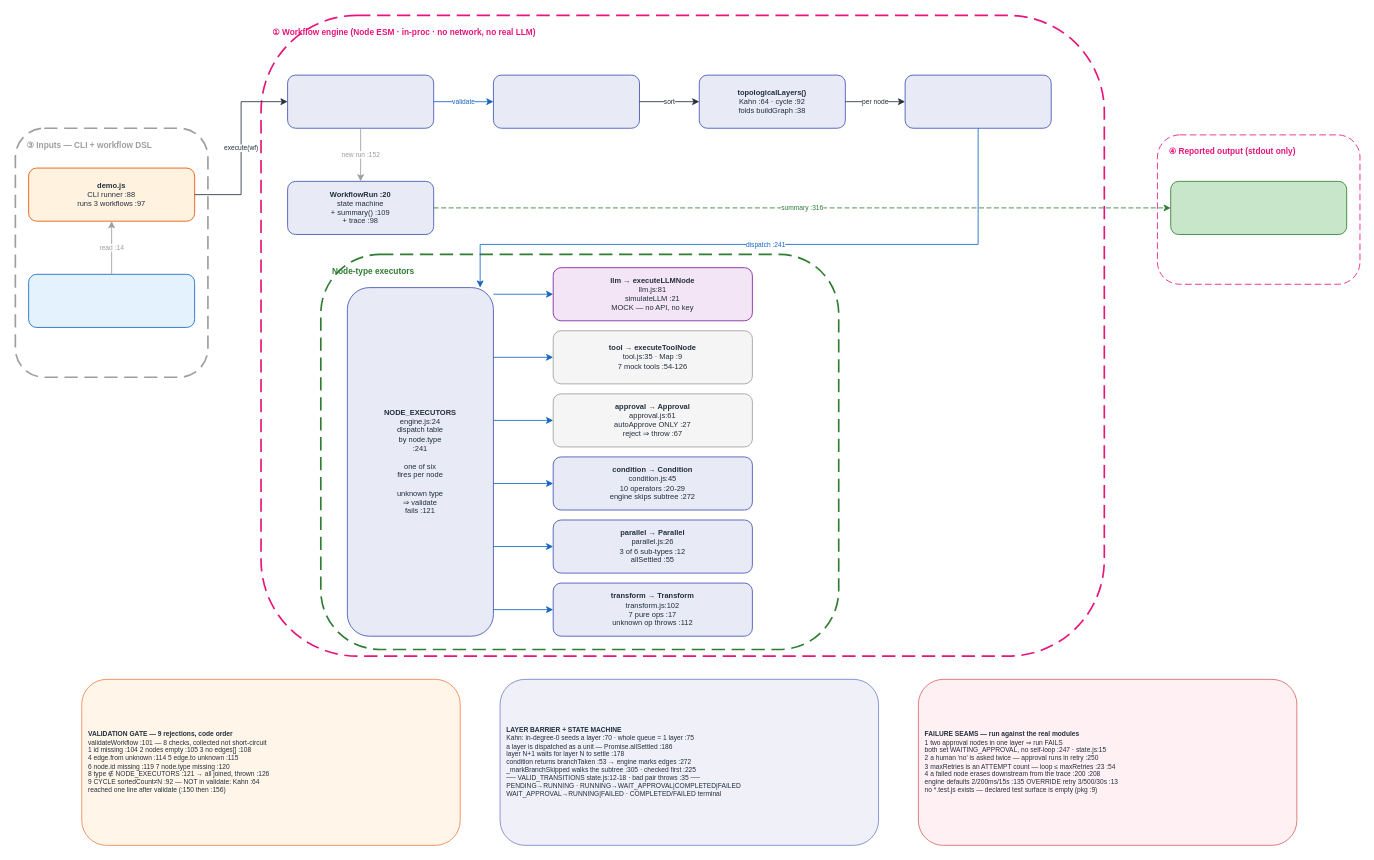
Some shapes in this 1374 by 860 pixel diagram are drawn without their labels. The shapes that lost their labels are listed below. From the top down, each one's box as (x1, y1, x2, y2) in pixels, then its label:
(287, 74, 434, 128): execute() :149 orchestrator validate → sort + _executeNode :223
(493, 74, 640, 128): validateWorkflow() engine.js:101 8 checks, collected
(904, 74, 1051, 128): retryWithBackoff() retry.js:12 2x exp backoff :48
(1170, 181, 1347, 234): stdout report _printSummary :316 final tally demo.js:106
(28, 273, 195, 327): workflows/*.json 3 DSL defs read by demo.js:14
